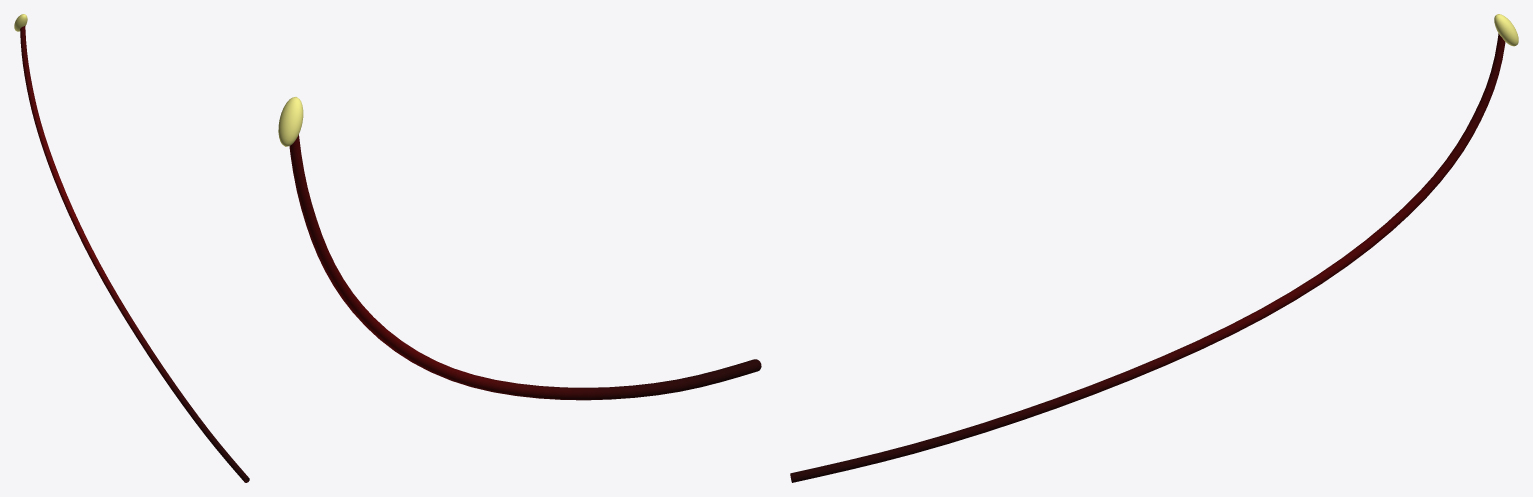
The model's file is avkan3.fbx.
The picture shows the model from 3 angles, left to right: view 1: azimuth 30°, elevation 25°; view 2: azimuth 150°, elevation 25°; view 3: azimuth 270°, elevation 25°; orthographic projection. The views are drawn at different scales.
Visible parts, largest first — view 1: cgaxis_models_26_11_01_2; view 2: cgaxis_models_26_11_01_2; view 3: cgaxis_models_26_11_01_2.
Part boxes in pixels (box(x1,y1,x2,y2)): cgaxis_models_26_11_01_2: box(14, 14, 249, 482); cgaxis_models_26_11_01_2: box(278, 97, 761, 400); cgaxis_models_26_11_01_2: box(790, 14, 1518, 482).
Bounding box in the file's own units: 0.0713 × 1.8 × 2.52.
